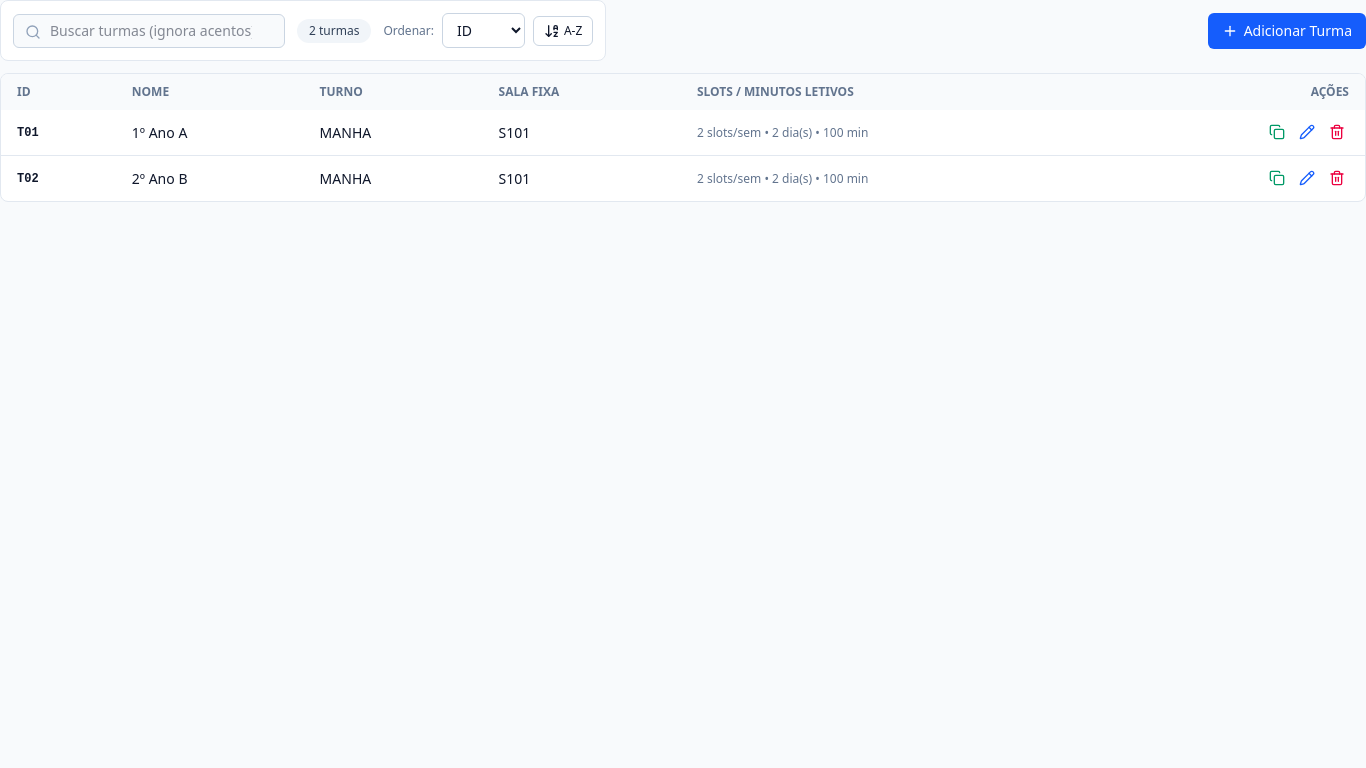
Scenario: TurmasTab - CopyTurmaModal disciplina selection › allows selecting specific linked disciplinas when copying a turma
The image size is (1366, 768).
Later steps or results of the test are not shown.
Click the button named "Copiar 1º Ano A".
click(1277, 132)  # box [1265, 120, 1289, 144]
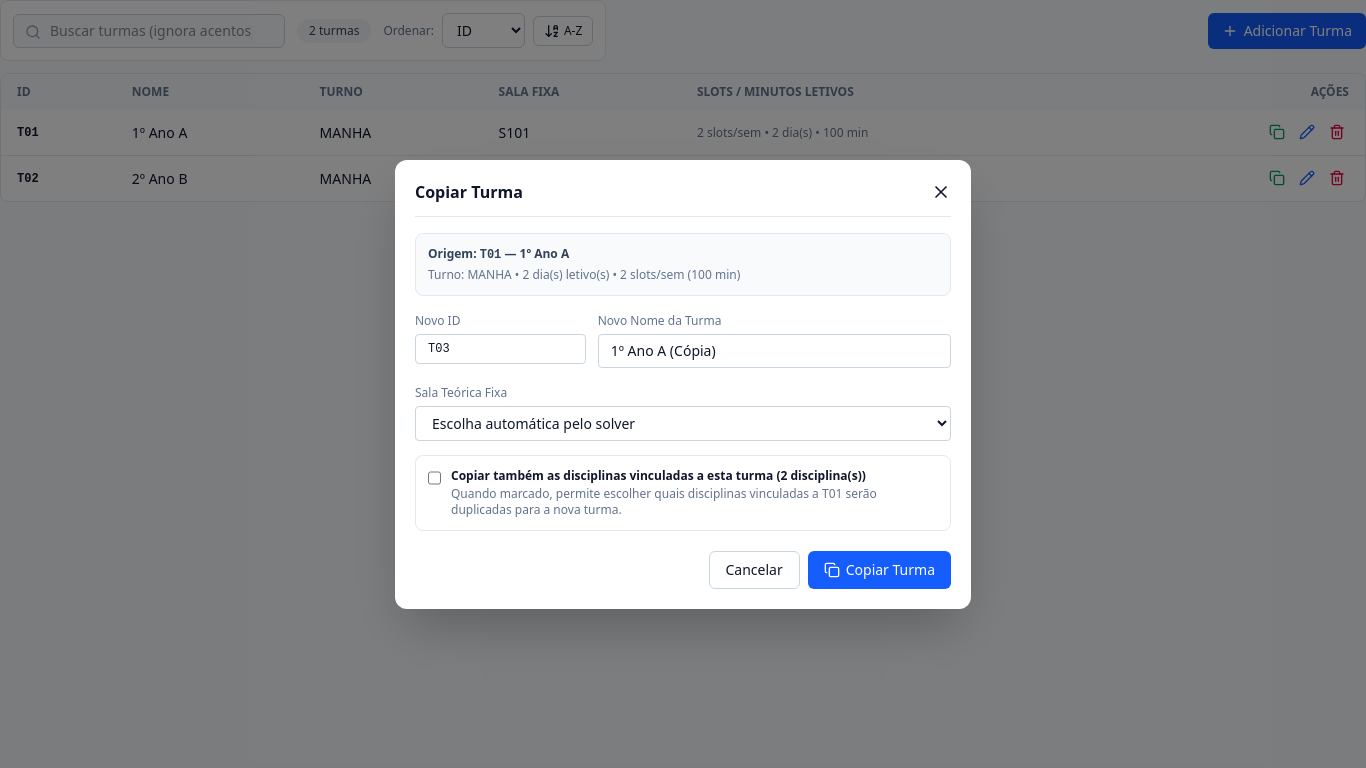
Now the heading "Copiar Turma" is shown, box [415, 180, 523, 204]
Click the checkbox labelled "Copiar também as disciplinas vinculadas a esta turma (2 disciplina(s))".
click(434, 478)  # box [428, 470, 441, 486]
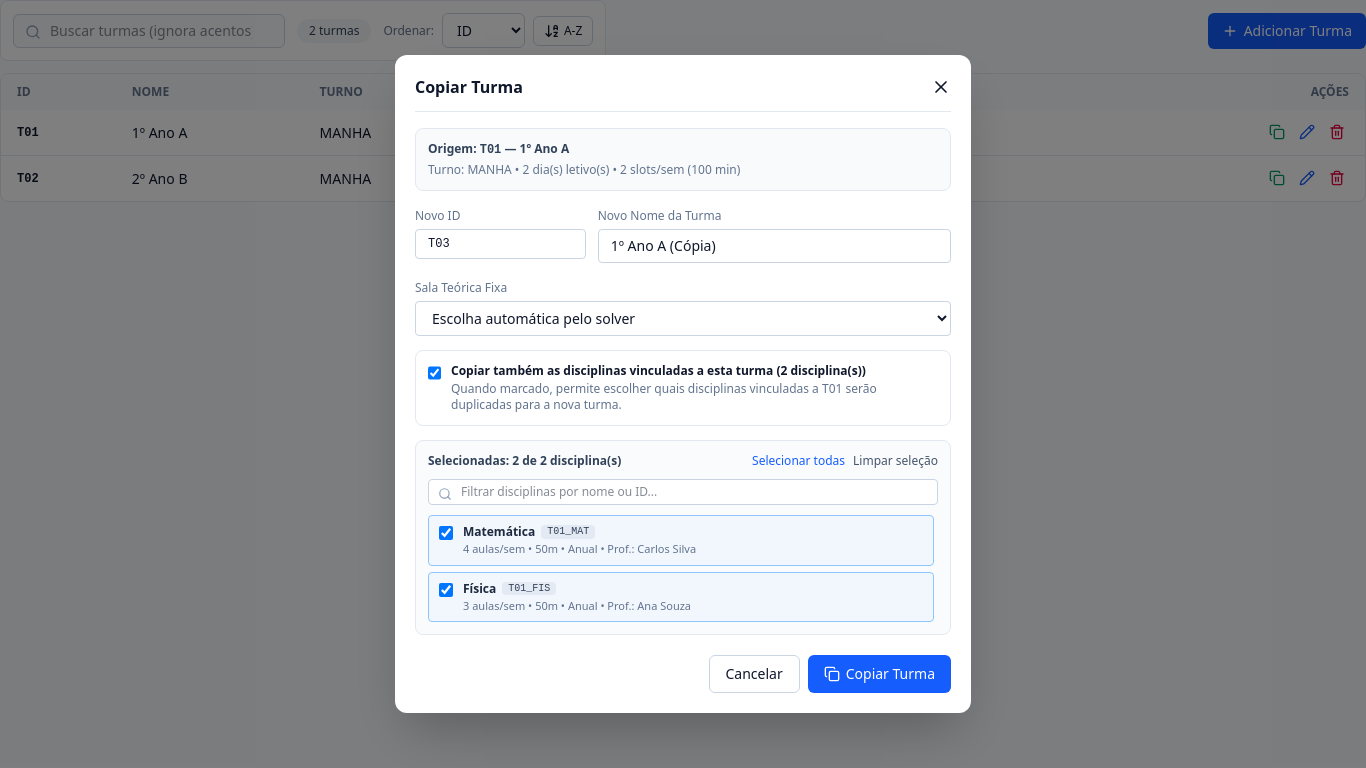
Now the text "Selecionadas: 2 de 2 disciplina(s)" is shown, box [428, 453, 621, 469]
Now the text "Matemática" is shown, box [463, 524, 535, 540]
Now the text "Física" is shown, box [463, 580, 496, 596]
Note: Filter inside selector and uncheck Física
Type "Física" into the field with placeholder "Filtrar disciplinas por nome ou ID...".
click(683, 492); type("Física")  # box [428, 479, 938, 505]
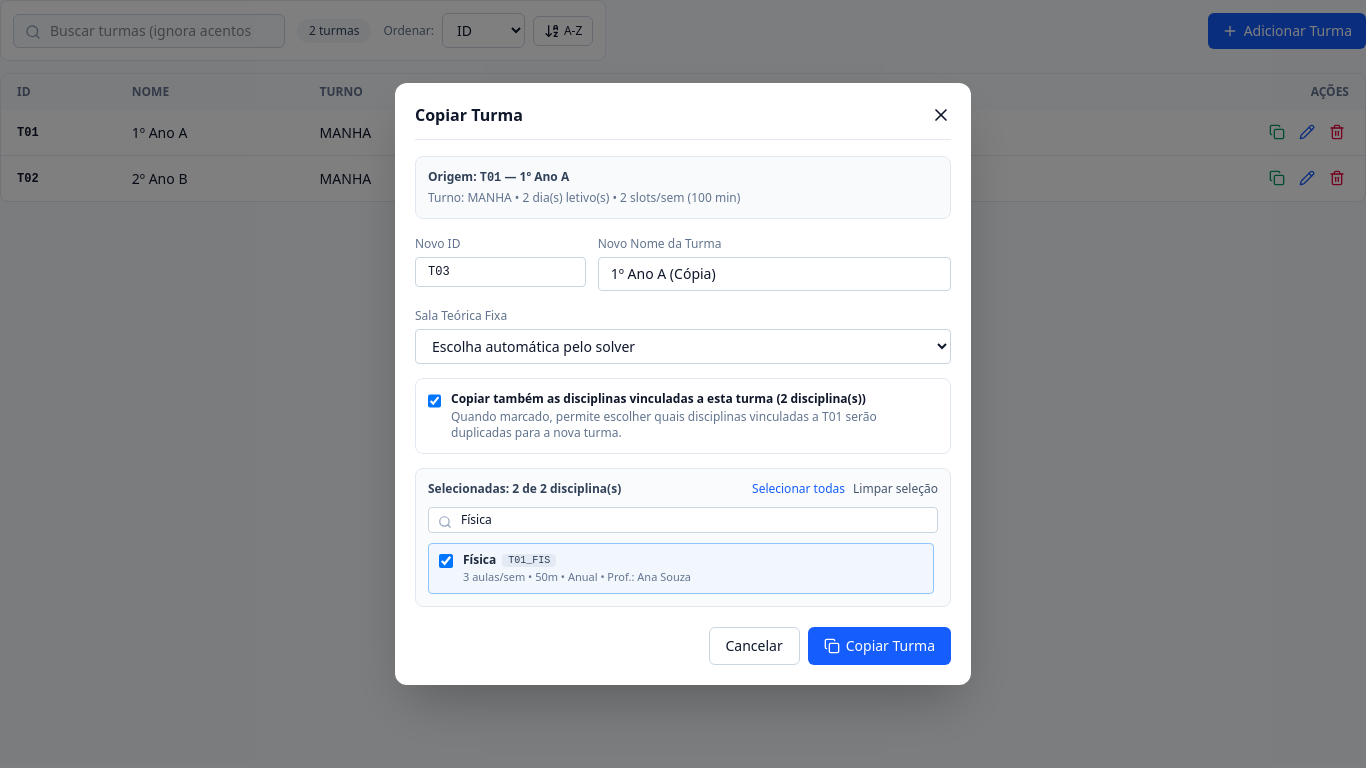
Now the text "Matemática" is gone
Click the checkbox labelled "Física T01_FIS 3 aulas/sem • 50m • Anual • Prof.: Ana Souza".
click(446, 561)  # box [439, 554, 453, 568]
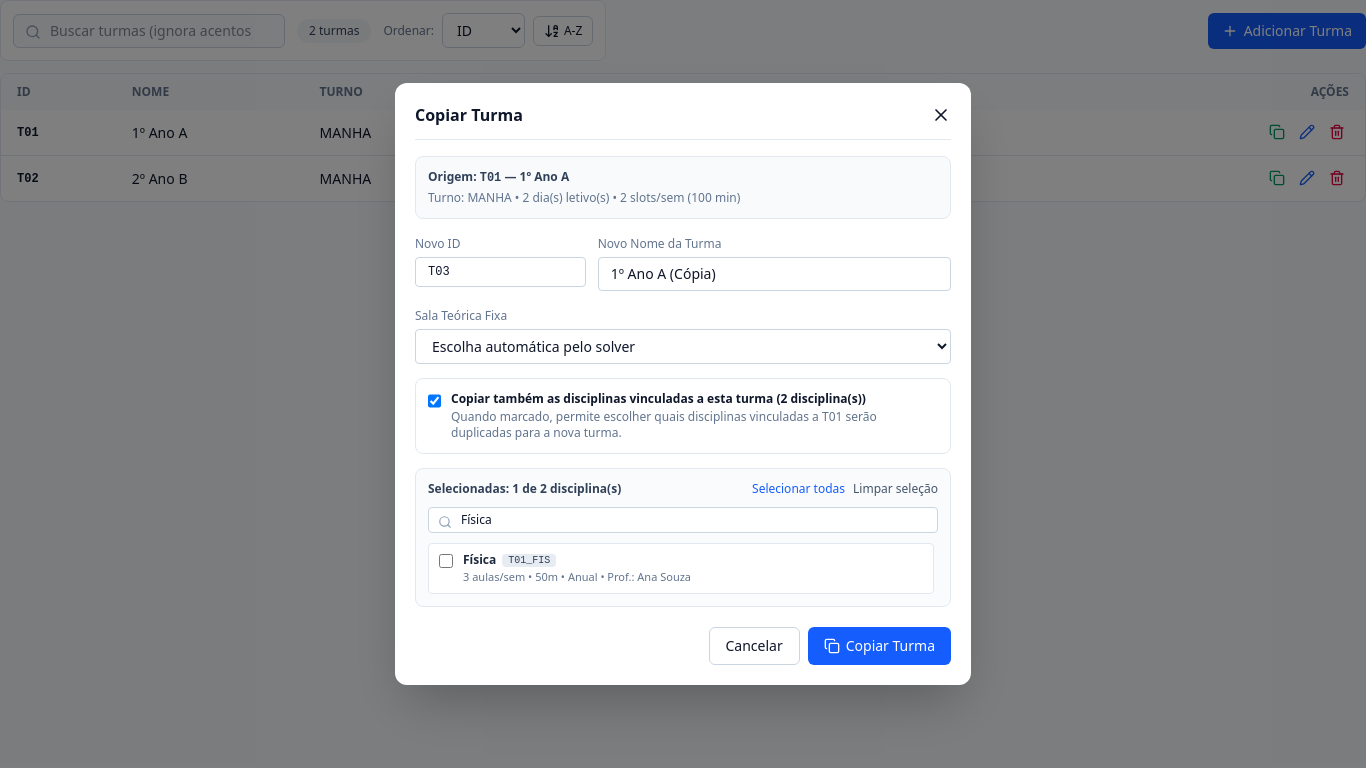
Clear the field with placeholder "Filtrar disciplinas por nome ou ID..." below "Selecionadas:" at [683, 520], box [428, 507, 938, 533]
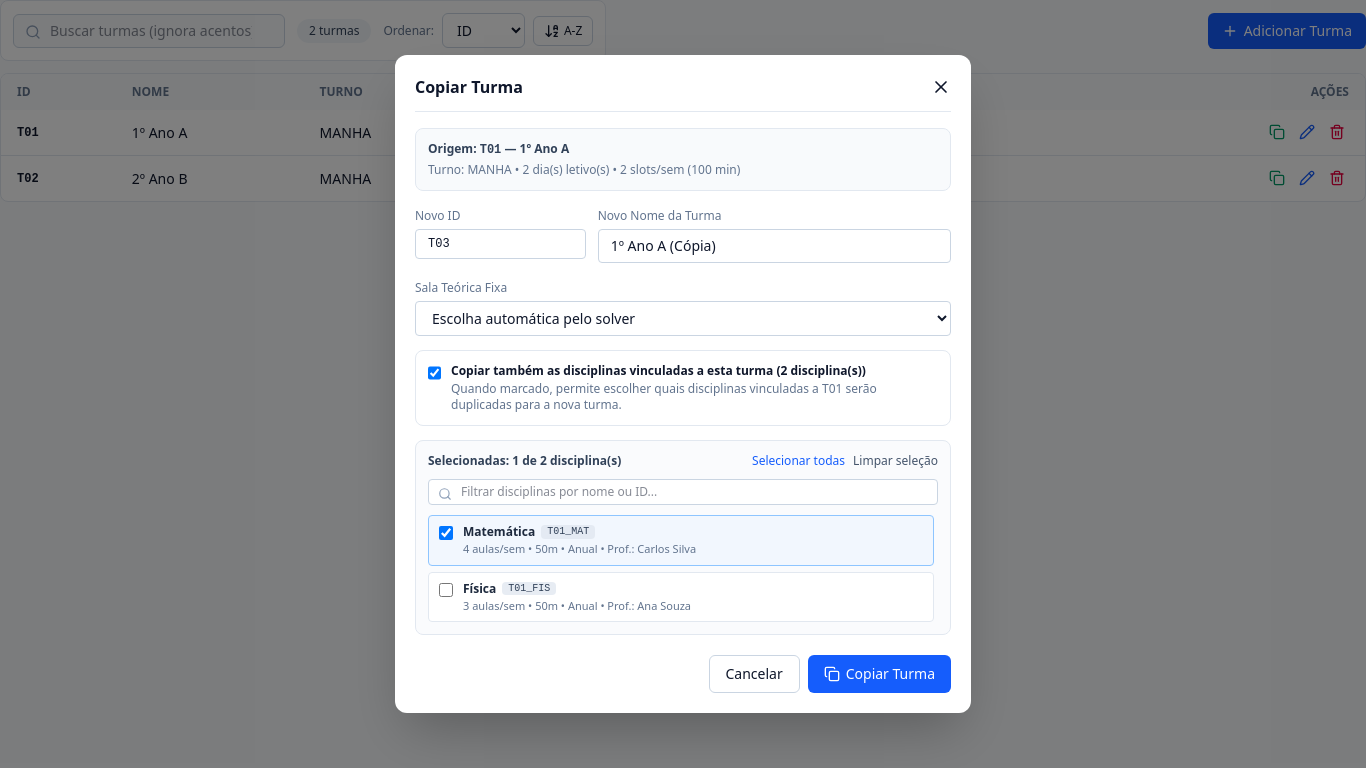
Now the text "Selecionadas: 1 de 2 disciplina(s)" is shown, box [428, 453, 621, 469]
